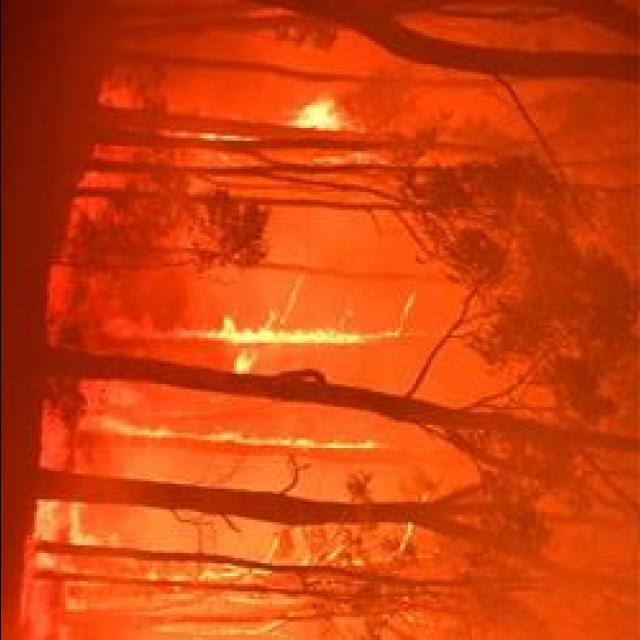fire: (217, 323, 361, 347), (294, 95, 342, 136)
